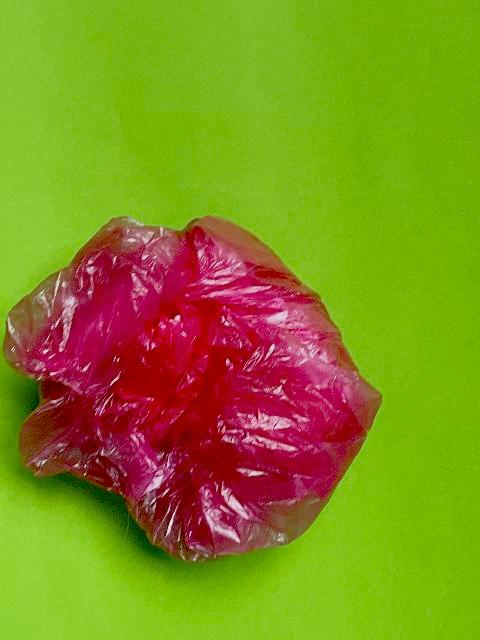plasticbag: (0, 212, 384, 564)
